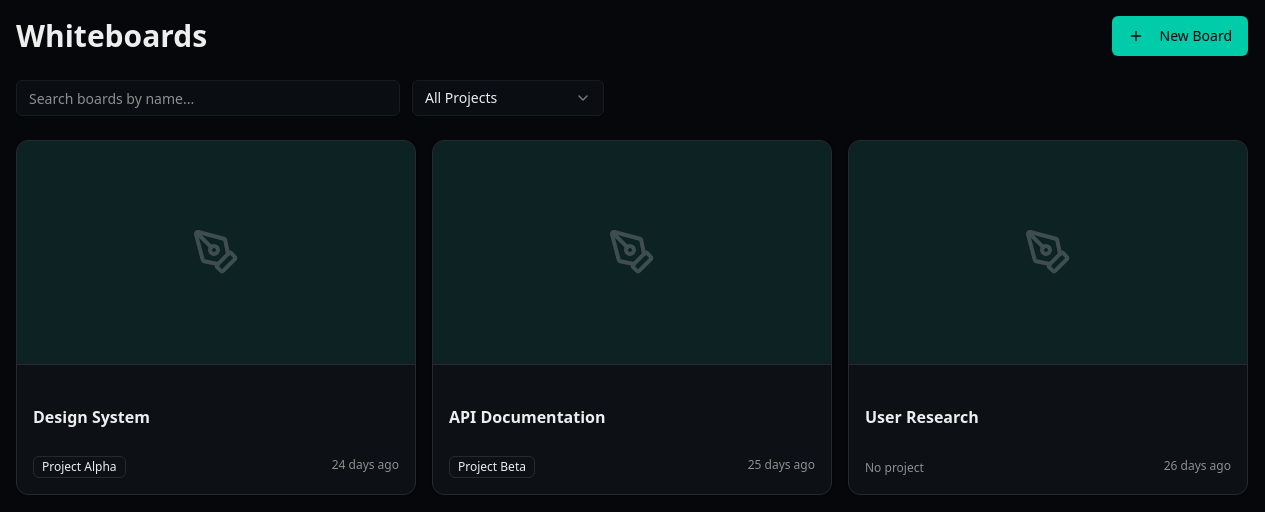
Whiteboards Page › should filter boards by search text
Step 1. Type "Design" into the field with placeholder "Search boards by name..." → (208, 98), box left=16, top=80, right=400, bottom=116
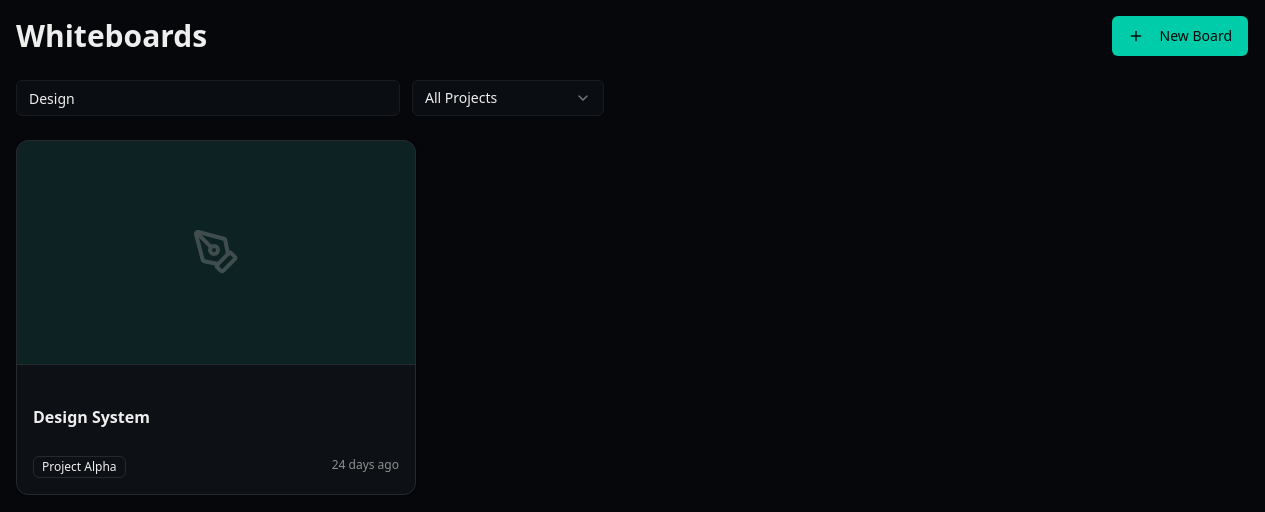
Expected: the heading "Design System" is shown, left=33, top=406, right=150, bottom=428
Expected: the button "API Documentation" is gone
